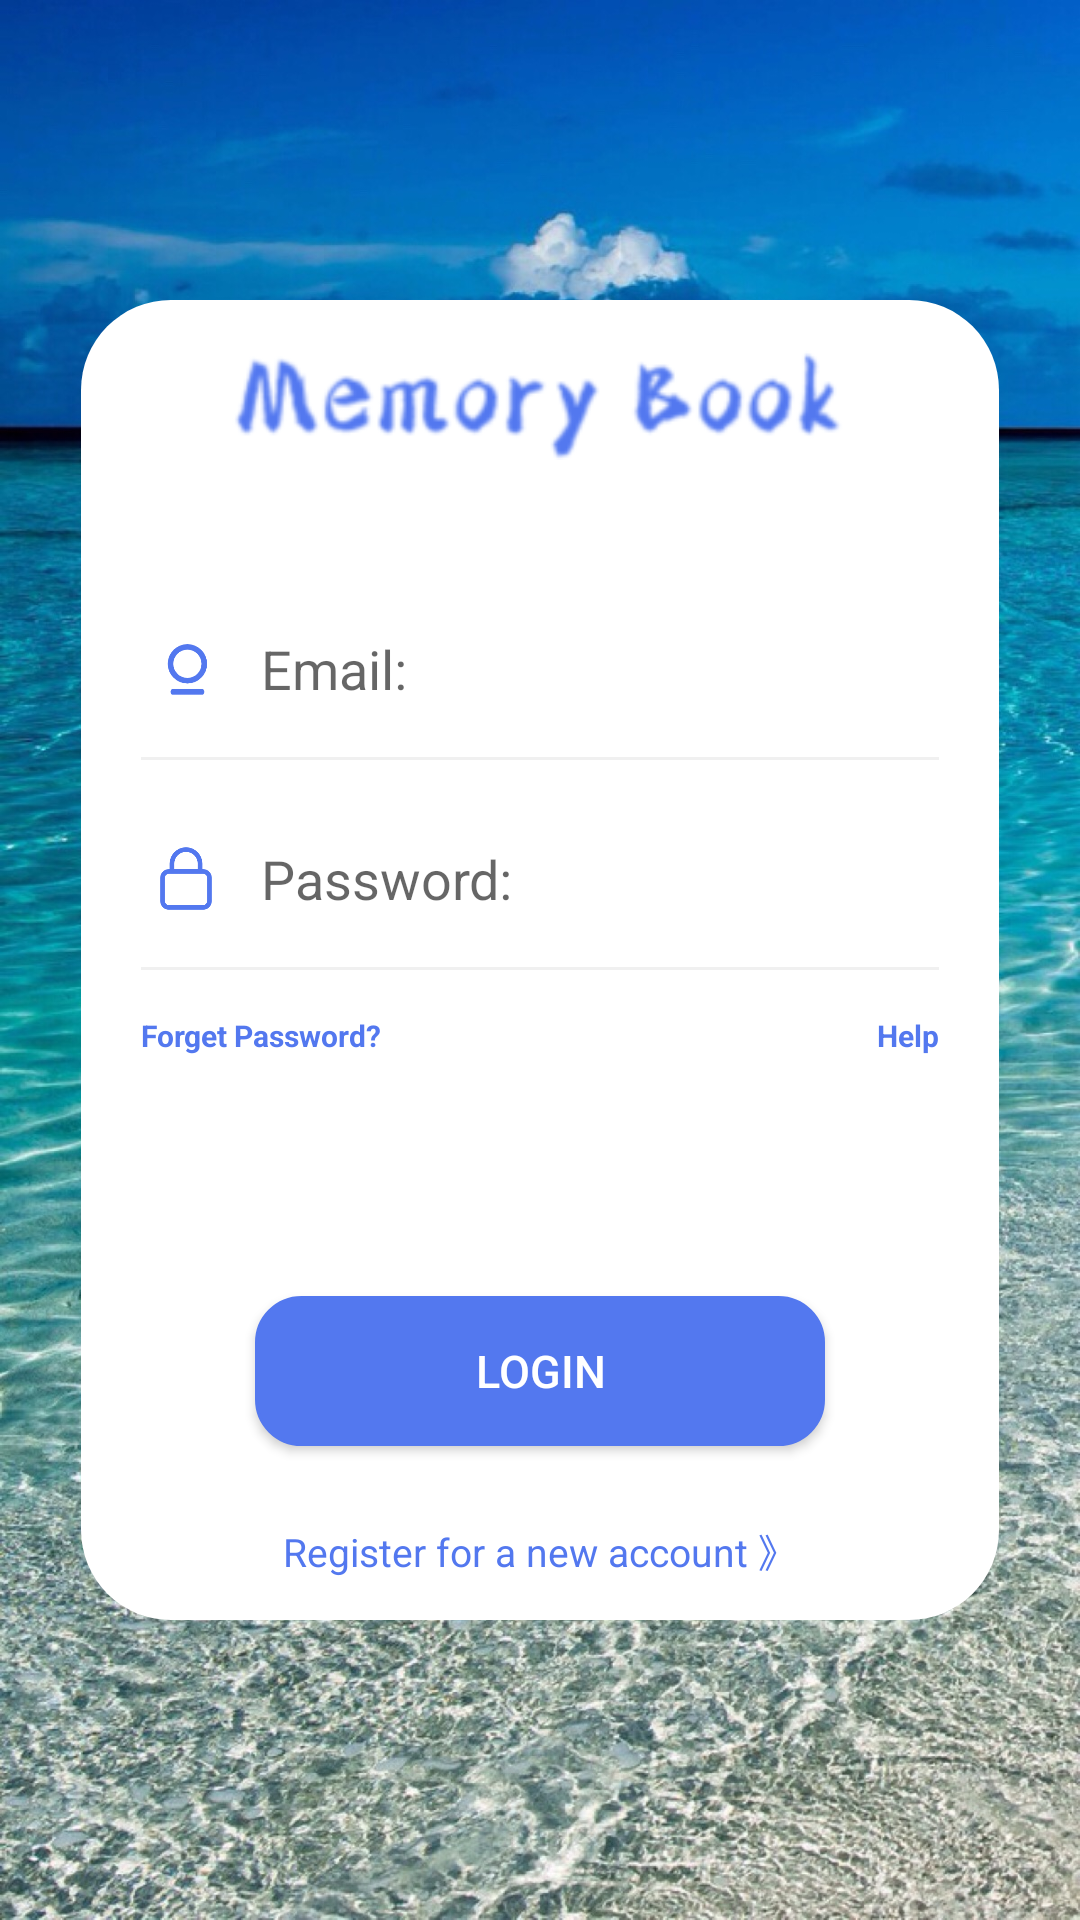

Named icons in this screenshot (1080 x 1920) and their centers, (x,y):
account: (187,669)
